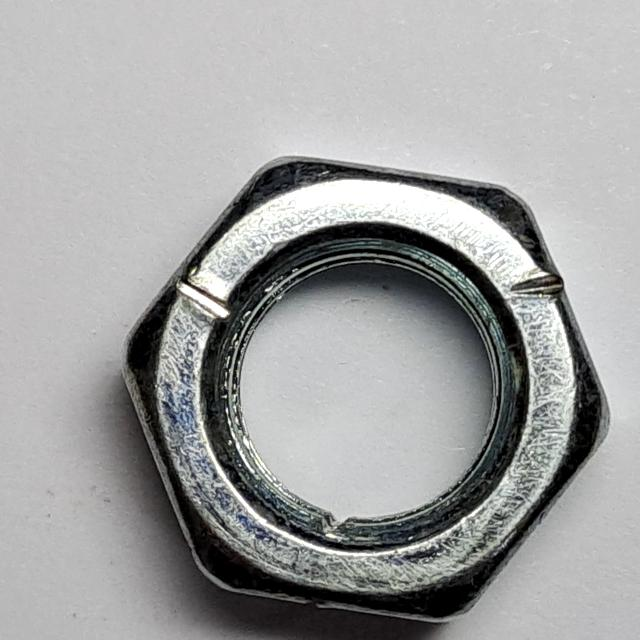Scratches: (107, 141, 622, 637)
